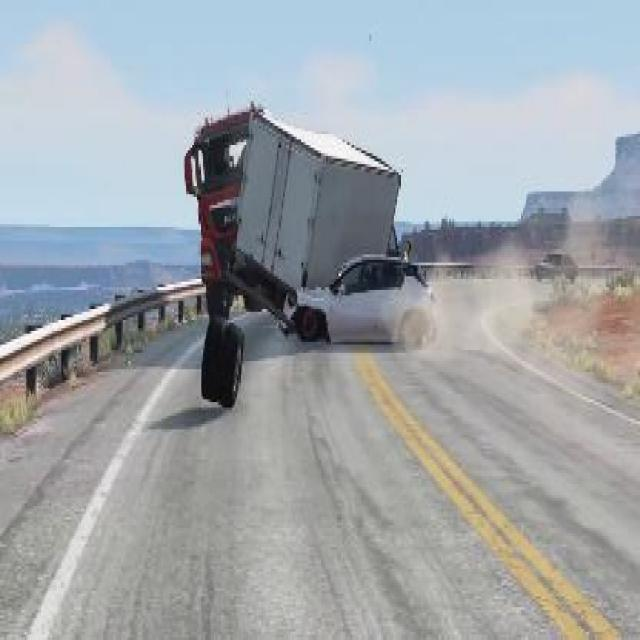accident: (182, 104, 436, 350), (232, 104, 437, 353)
